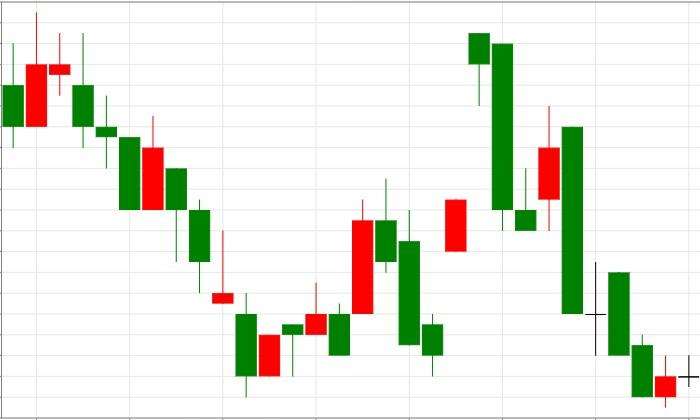hanging_man_fall: (422, 32, 491, 377)
